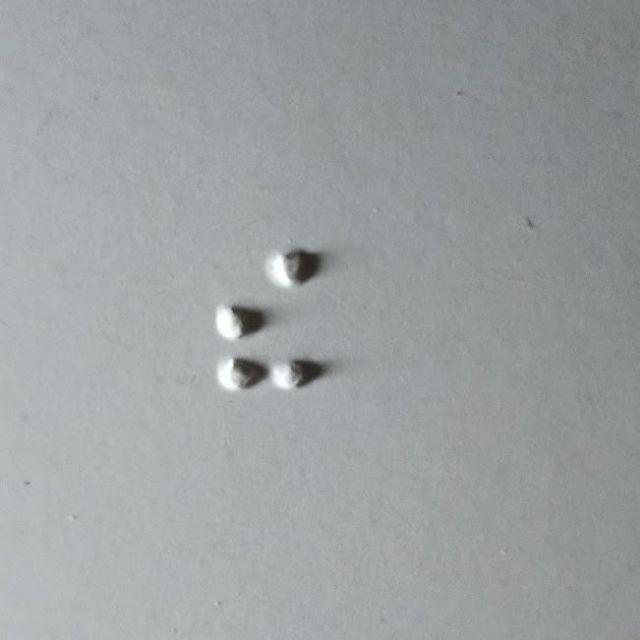ang: (216, 248, 322, 394)
